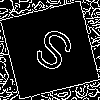S: (25, 25, 78, 83)
